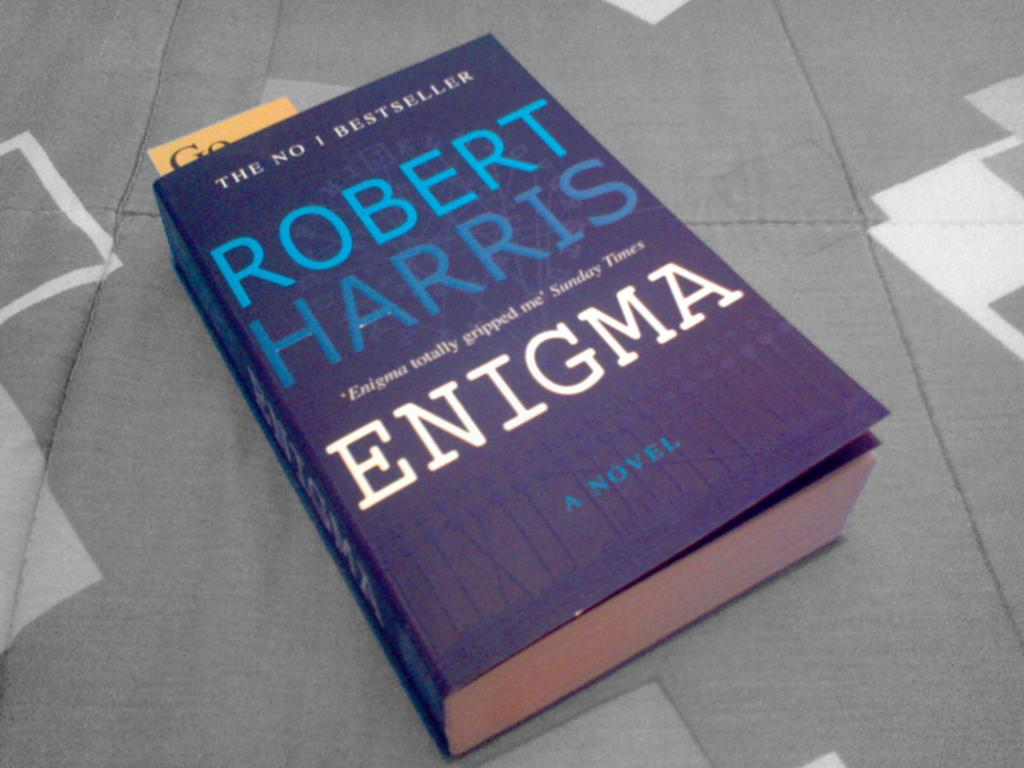book: (156, 56, 901, 760)
